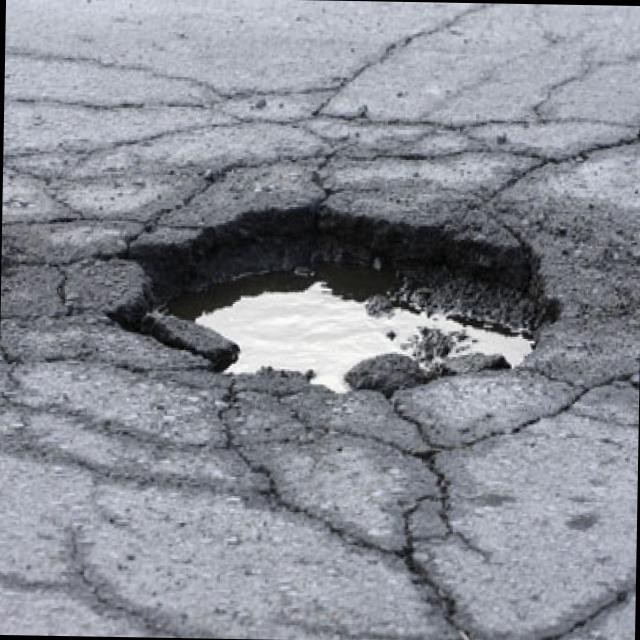Pothole: (74, 149, 599, 464)
